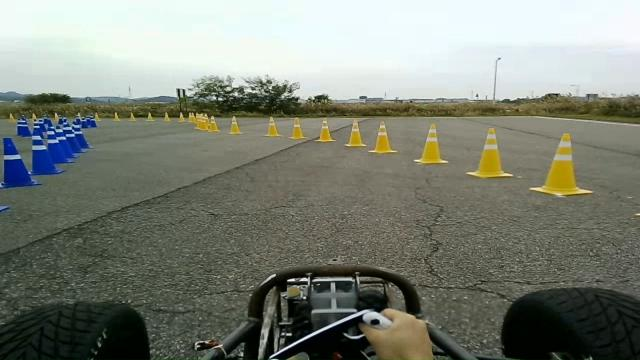blue cone: (1, 136, 42, 188), (28, 134, 64, 174), (64, 116, 89, 161), (2, 137, 20, 155)
yellow cone: (529, 132, 593, 196), (466, 127, 513, 178), (413, 123, 448, 164), (368, 121, 398, 153), (344, 118, 367, 147), (314, 118, 336, 142), (288, 117, 308, 140), (263, 115, 281, 136), (227, 115, 243, 134), (208, 115, 220, 132)
